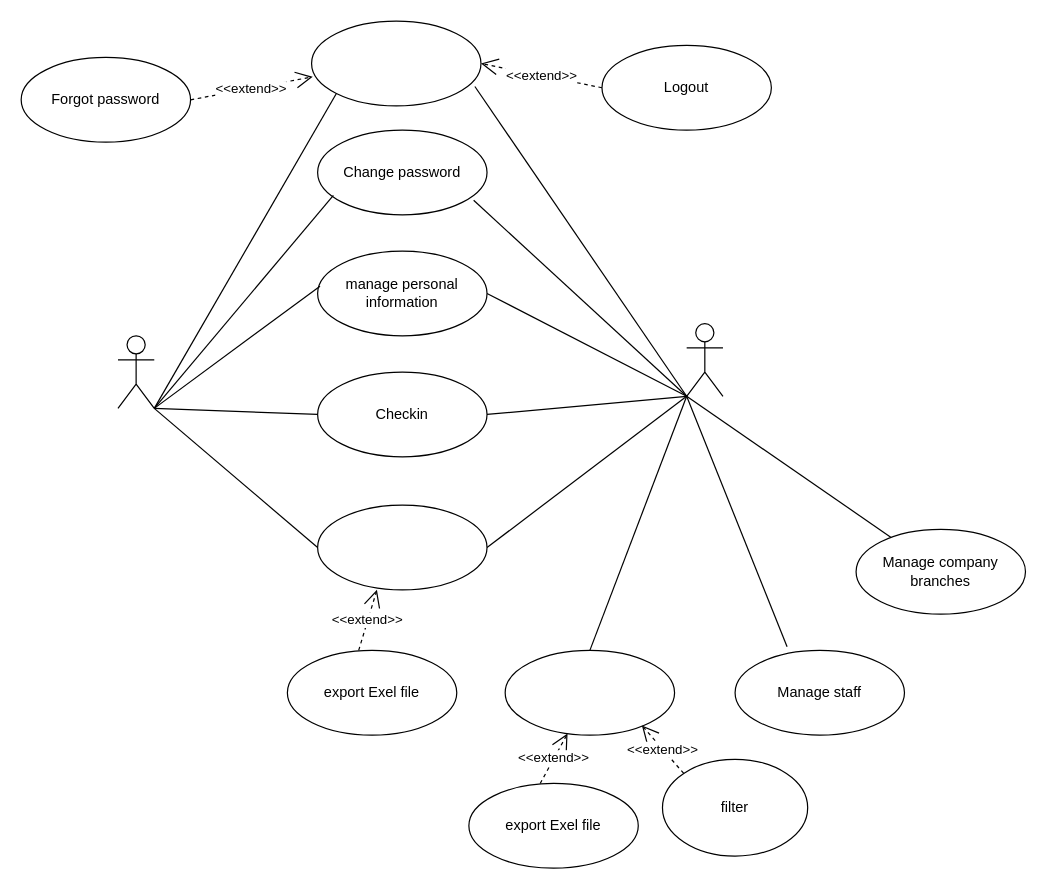
The diagram is 1047 pixels wide and 889 high, and some of its shapes have lost their labels. Here are the shapes that lost their labels. From the top down, the centre of each, then its label:
point (395, 63): Login
point (135, 371): staff
point (704, 359): manager
point (401, 547): Manage work day
point (589, 692): Manage staff work day
